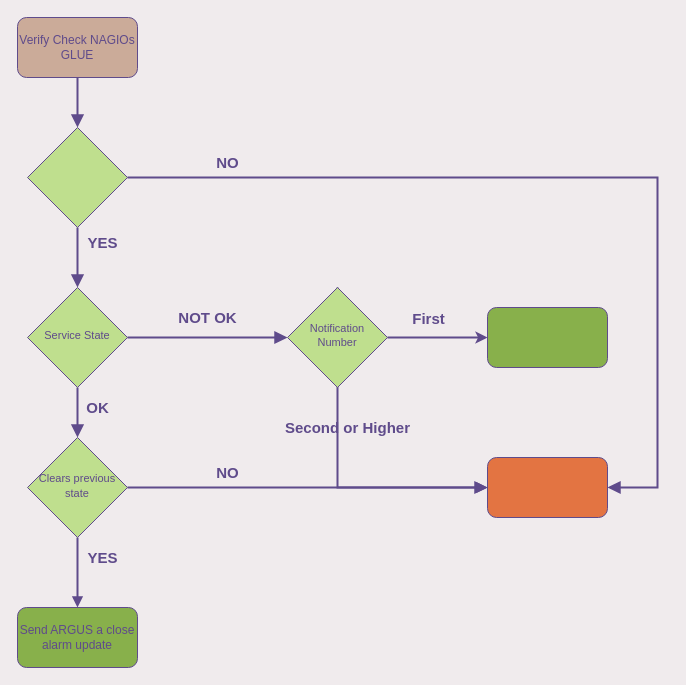
Some shapes in this 686 by 685 pixel diagram are drawn without their labels. The centre of each missing label's shape, as x and y in pixels:
Exit: (547,487)
Notification enabled: (77,177)
Send ARGUS a create alarm call: (547,337)
